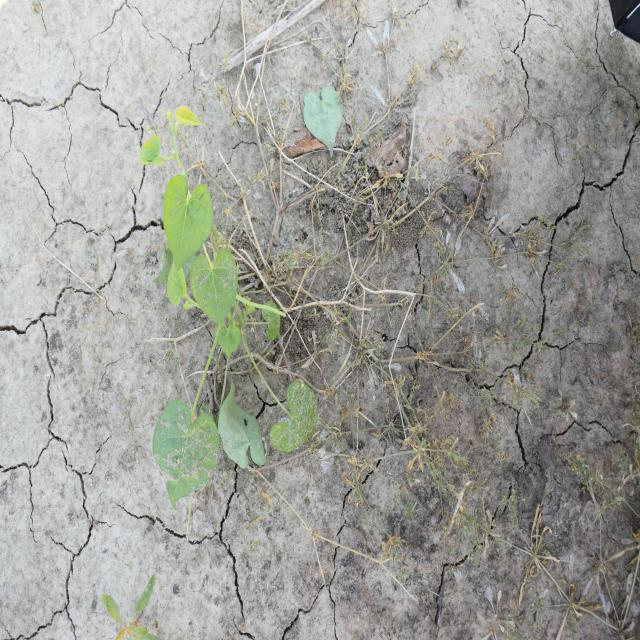Carpetweed: (191, 20, 639, 638)
MorningGlory: (135, 103, 321, 511)
